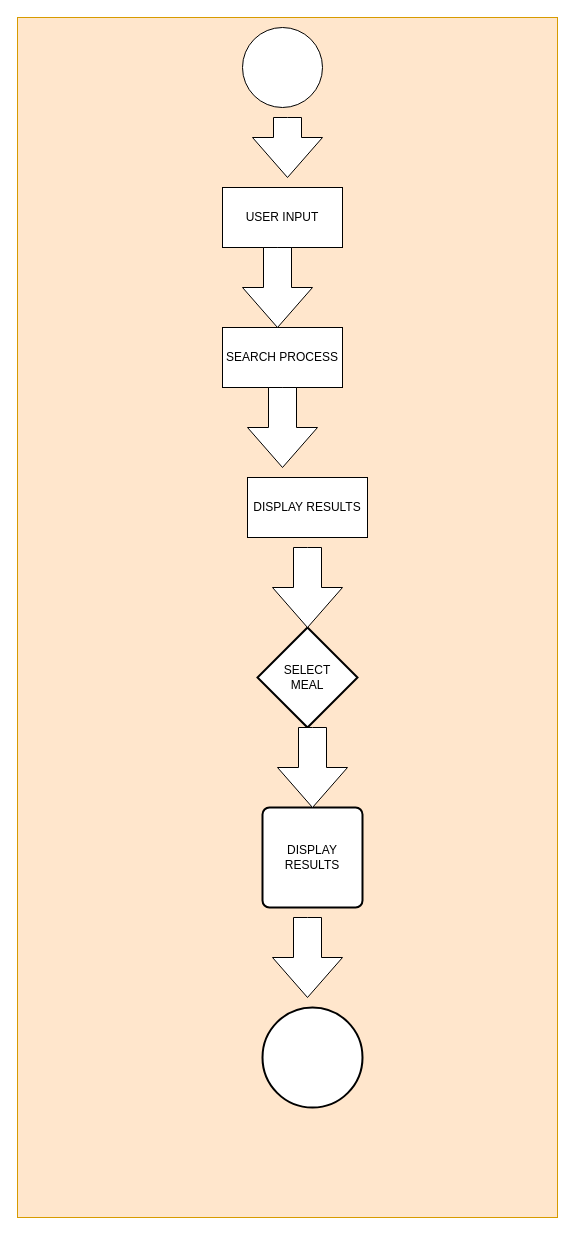
The diagram is 575 pixels wide and 1235 high, and some of its shapes have lost their labels. Here are the shapes that lost their labels. From the top down, the centre of each, then its label:
At pixel 282 67: "START".
At pixel 312 1057: "END".
